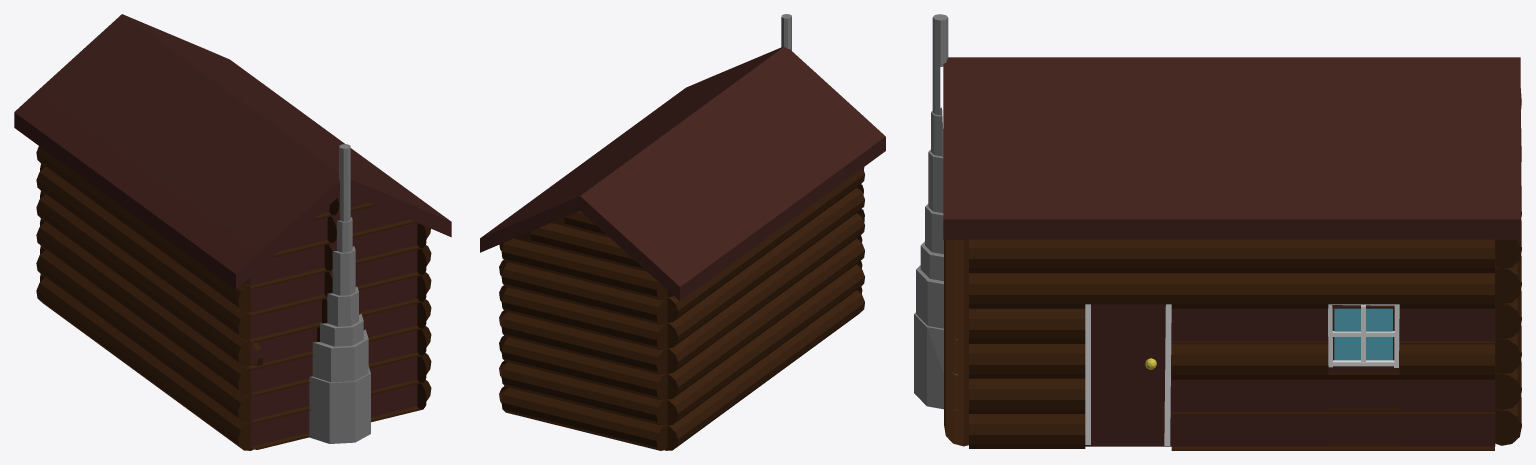
Rendered from cabaña.fbx.
The picture shows the model from 3 angles, left to right: view 1: azimuth 30°, elevation 25°; view 2: azimuth 150°, elevation 25°; view 3: azimuth 270°, elevation 25°; orthographic projection. The views are drawn at different scales.
Visible parts, largest first — view 1: main, walls, chimney; view 2: walls, main; view 3: main, walls, chimney, window, windowframe, doorframe.
Part boxes in pixels (<box>): main: <box>14,14,451,447</box>; walls: <box>36,146,431,450</box>; chimney: <box>309,144,370,443</box>; walls: <box>499,167,864,450</box>; main: <box>480,47,885,399</box>; main: <box>943,57,1520,446</box>; walls: <box>944,88,1521,450</box>; chimney: <box>914,14,957,410</box>; window: <box>1334,308,1392,360</box>; windowframe: <box>1328,304,1399,367</box>; doorframe: <box>1085,304,1171,445</box>.
Bounding box in the file's own units: 741 × 961 × 1389.
